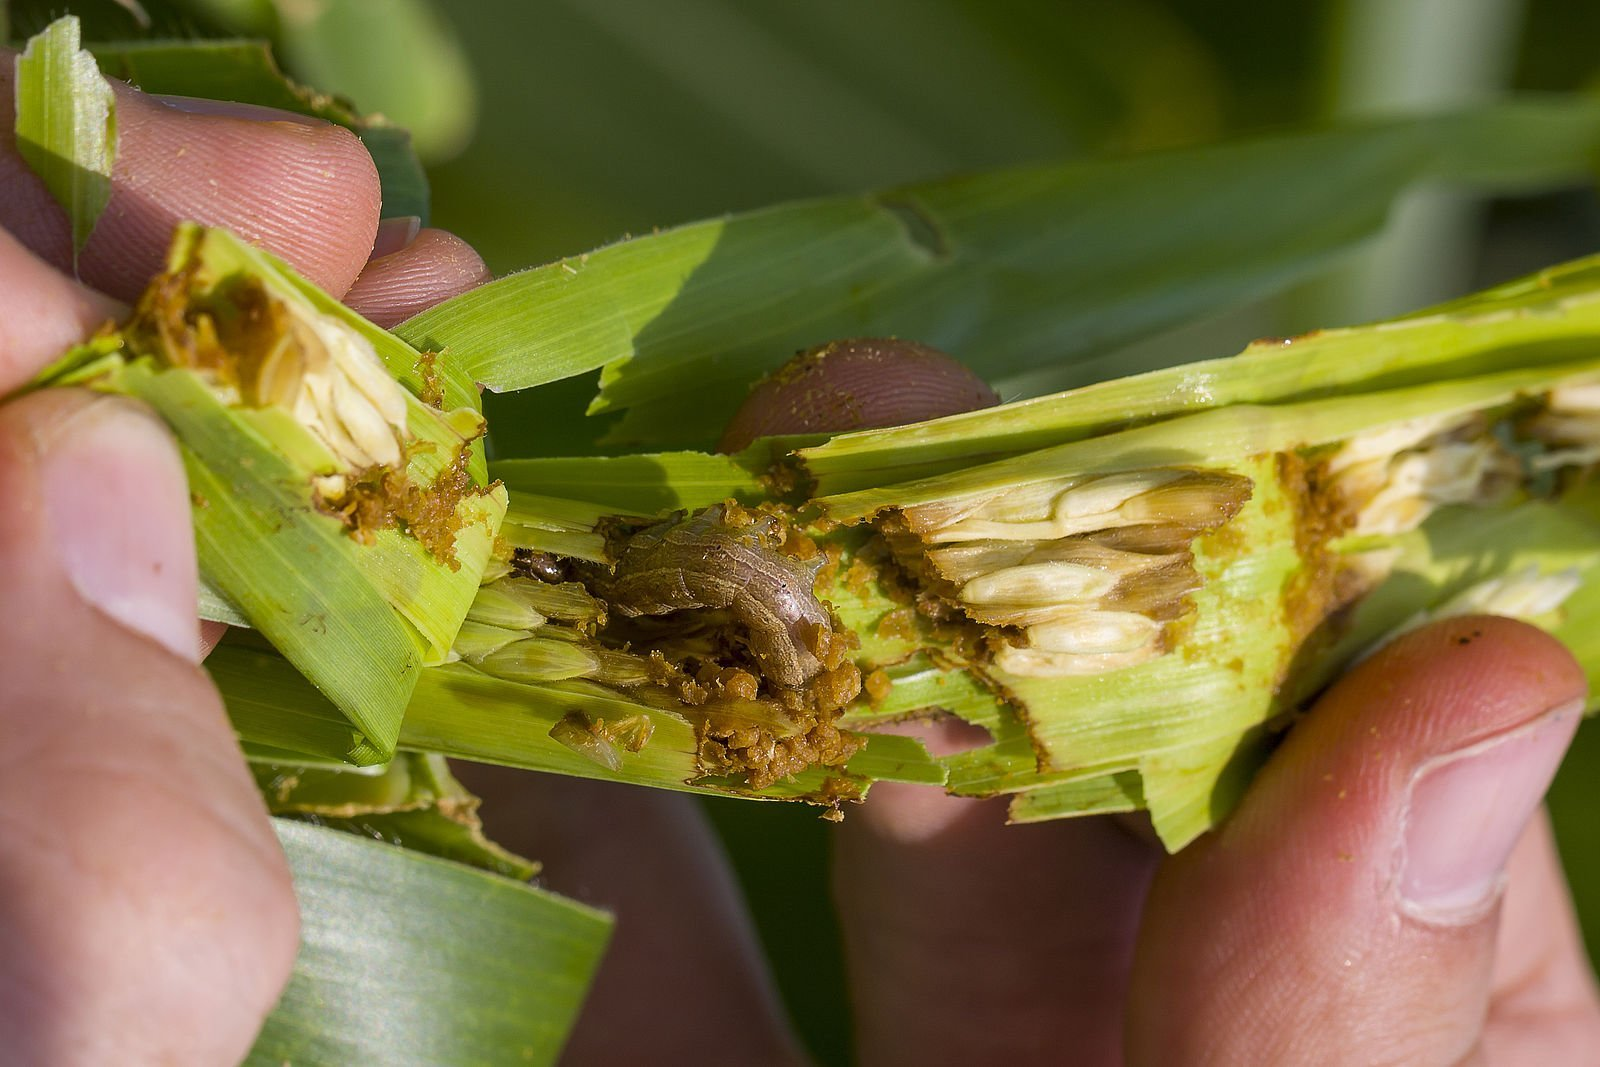Armyworm: (571, 490, 919, 743)
